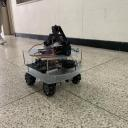cart: (22, 45, 83, 96)
